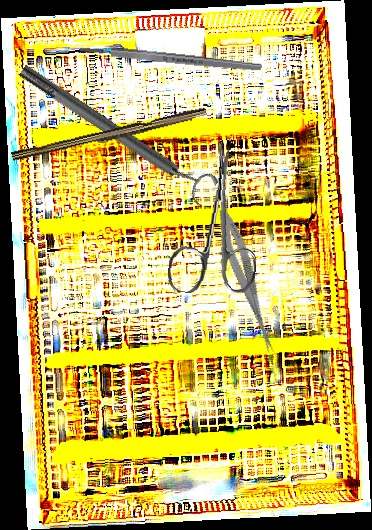Fixation Ring: (12, 53, 221, 210)
Iris Scissors: (166, 138, 267, 299)
Micro Scissor: (211, 206, 284, 356)
Scalpel Handle: (11, 104, 208, 167), (78, 43, 263, 74)
